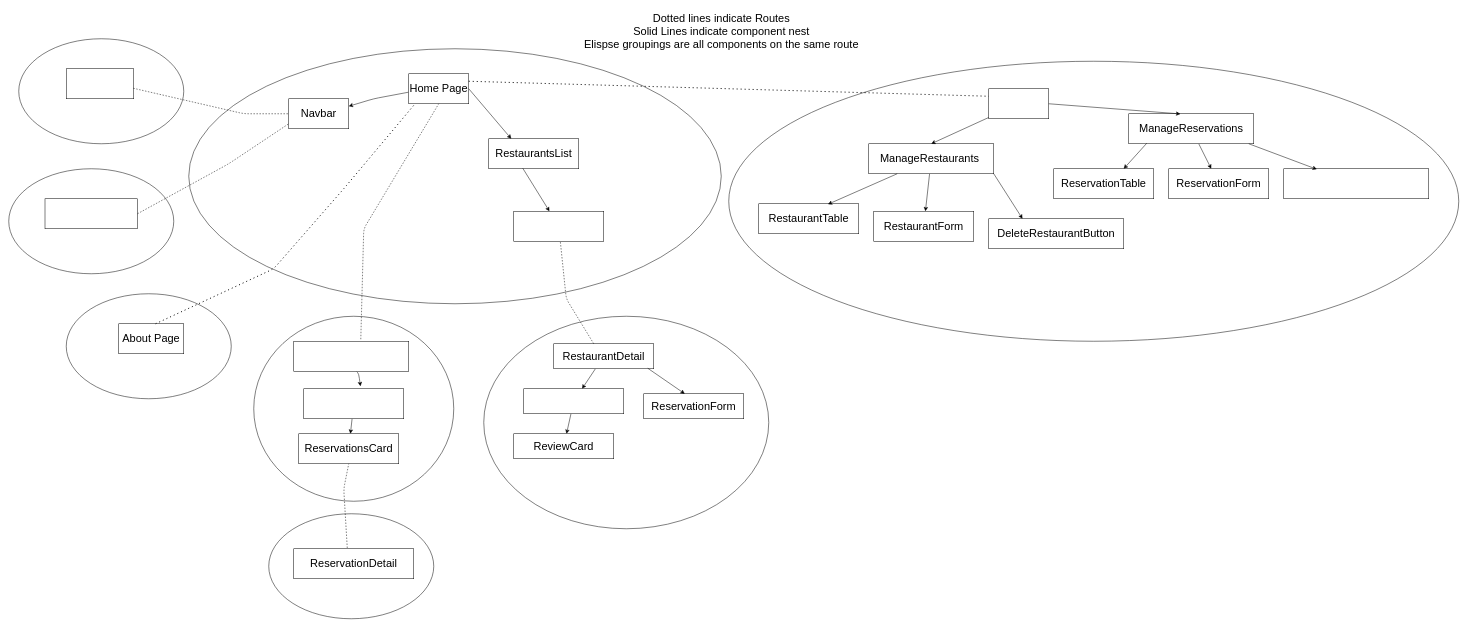
Image size: 1468x628. Some labels were removed from this diagram. The shapes that lost their labels are listed below. From the top down, each one's box as (x1, y1, x2, y2) in pixels, then its label:
(66, 68, 134, 99): LoginForm
(988, 88, 1049, 119): Admin Dashboard
(1283, 168, 1429, 199): CancelReservationButton
(44, 198, 138, 229): RegistrationForm
(513, 211, 604, 241): RestaurantCard
(293, 341, 409, 371): Reservations Page
(303, 388, 404, 419): ReservationsList
(523, 388, 624, 414): ReviewsList
